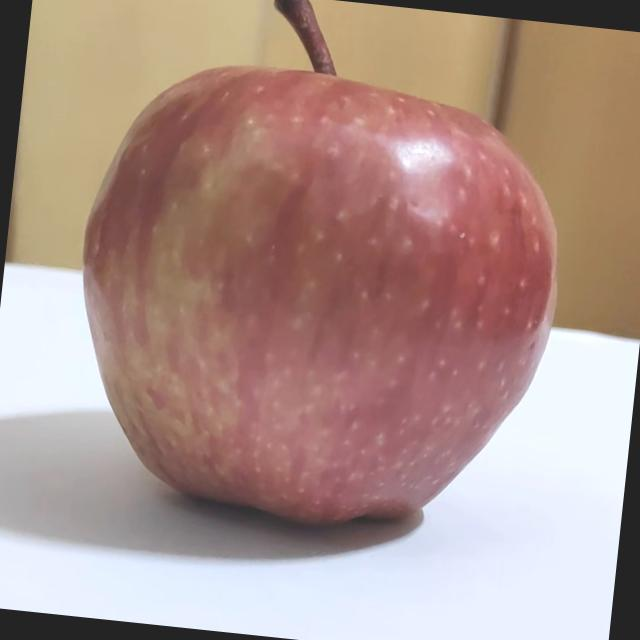apple: (51, 0, 589, 556)
